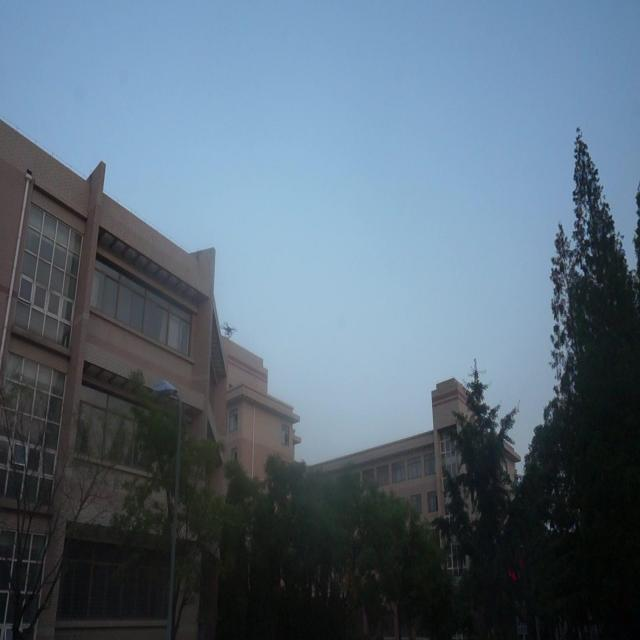UAV: (220, 322, 238, 338)
